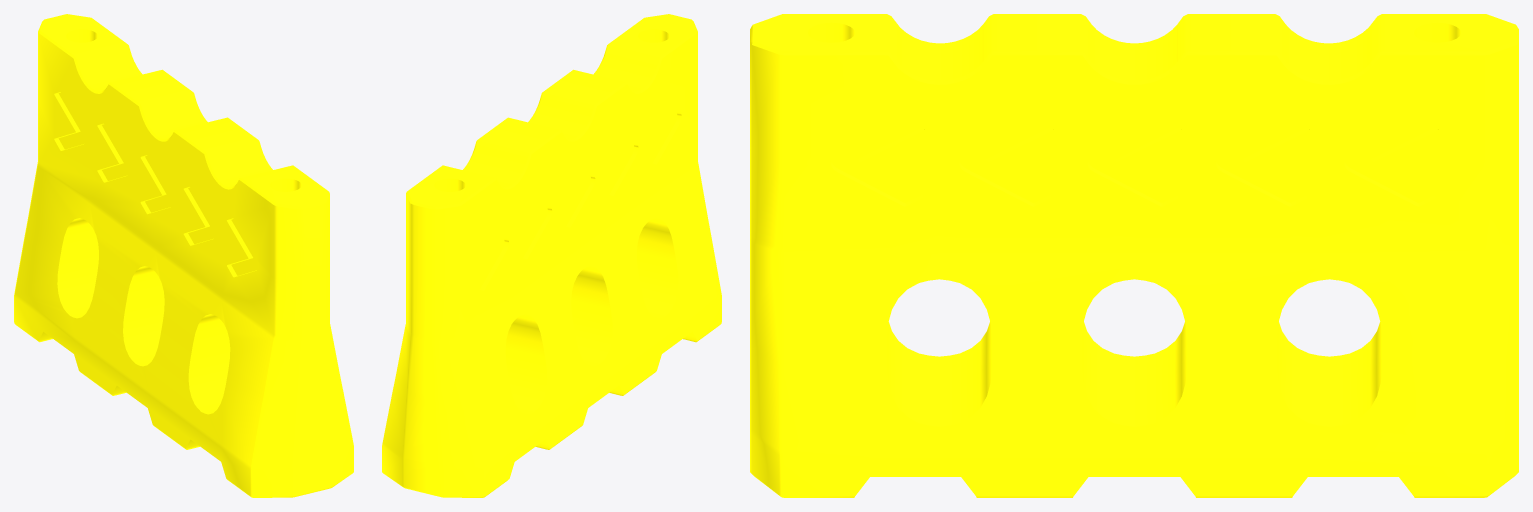
Rendered from water_weilan.glb.
The picture shows the model from 3 angles, left to right: view 1: azimuth 30°, elevation 25°; view 2: azimuth 150°, elevation 25°; view 3: azimuth 270°, elevation 25°; orthographic projection. The views are drawn at different scales.
Parts seen in each view (by area): view 1: 水马; view 2: 水马; view 3: 水马.
Part boxes in pixels (bbox=[...]): 水马: bbox=[14, 14, 353, 497]; 水马: bbox=[382, 14, 721, 497]; 水马: bbox=[750, 14, 1518, 497].
Bounding box in the file's own units: 0.3 × 0.8 × 1.3.
